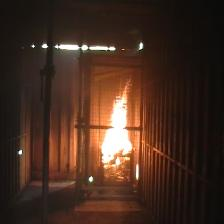fire: (100, 75, 133, 168)
